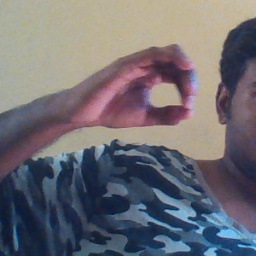O: (72, 40, 209, 132)
